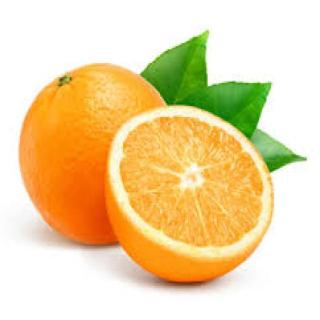orange: (95, 95, 283, 297), (12, 43, 178, 255)
